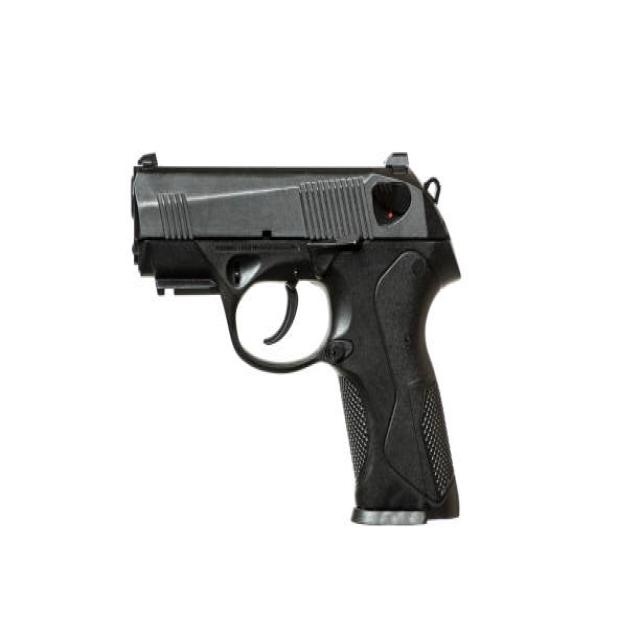pistol: (125, 139, 472, 538)
